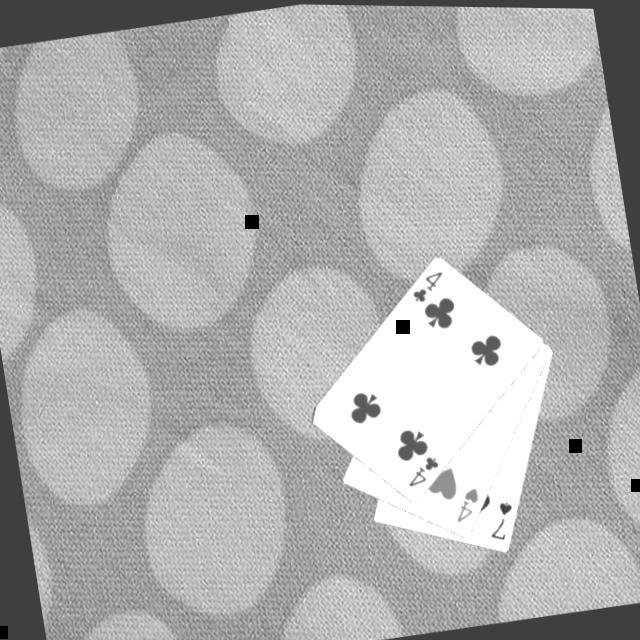4C: (403, 447, 447, 488), (408, 264, 452, 305)
4H: (450, 480, 488, 523)
7S: (484, 494, 523, 543)
